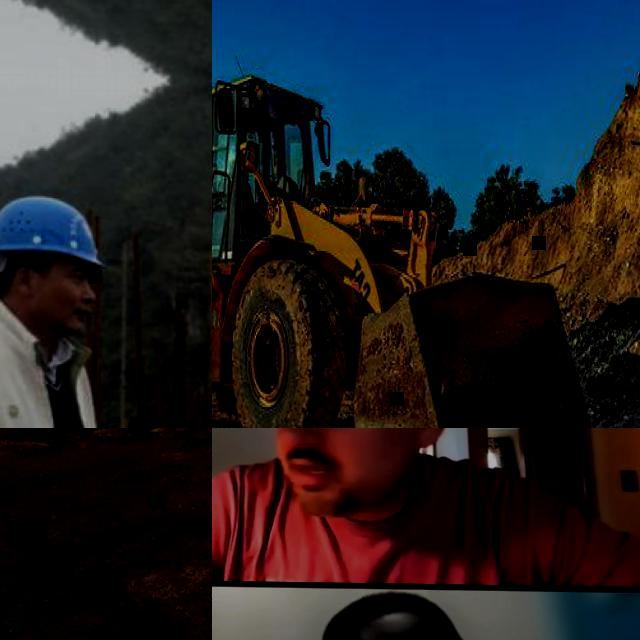helmet: (0, 196, 108, 268)
machinery: (212, 59, 637, 428)
no_helmet: (319, 591, 473, 640)
no_mask: (279, 449, 405, 522), (28, 297, 92, 334)
no_vest: (212, 459, 558, 583), (0, 334, 94, 428)
person: (212, 428, 640, 587), (0, 192, 108, 428), (212, 588, 601, 640)
